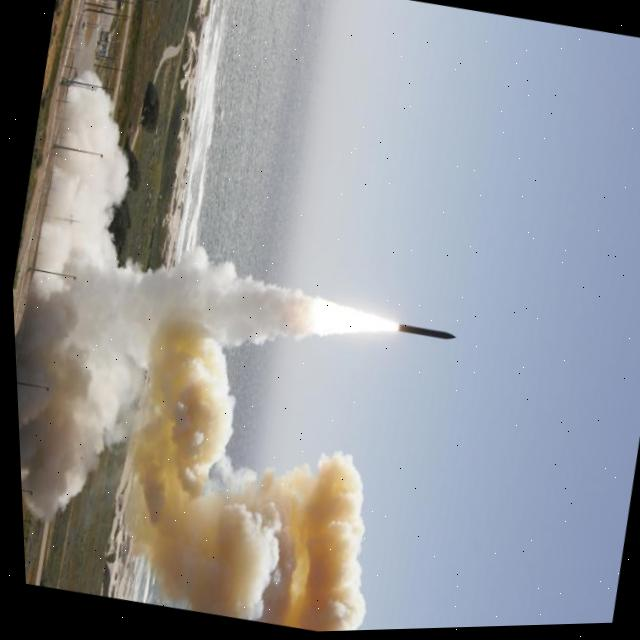missile: (385, 310, 458, 352)
